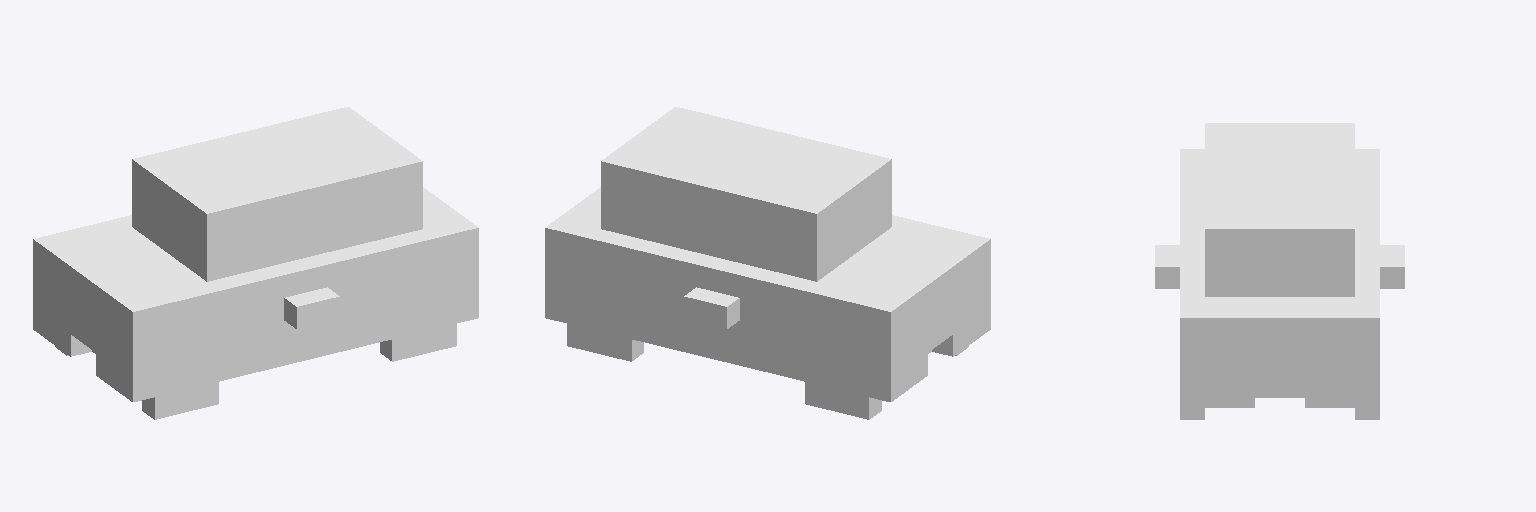
File: car1.obj
3 renders of one model, left to right at view 1: azimuth 30°, elevation 25°; view 2: azimuth 150°, elevation 25°; view 3: azimuth 270°, elevation 25°, orthographic.
Visible parts, largest first — view 1: object 1; view 2: object 1; view 3: object 1.
Part boxes in pixels (x1,y1,x2,y2): object 1: (33, 107, 478, 419); object 1: (545, 107, 990, 419); object 1: (1155, 123, 1404, 419).
Size of the model in its own units: 1.6 by 0.8 by 1.